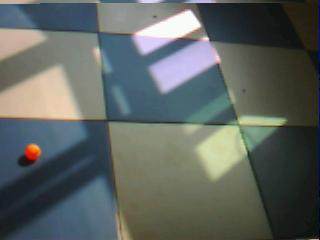oball: (25, 144, 41, 160)
